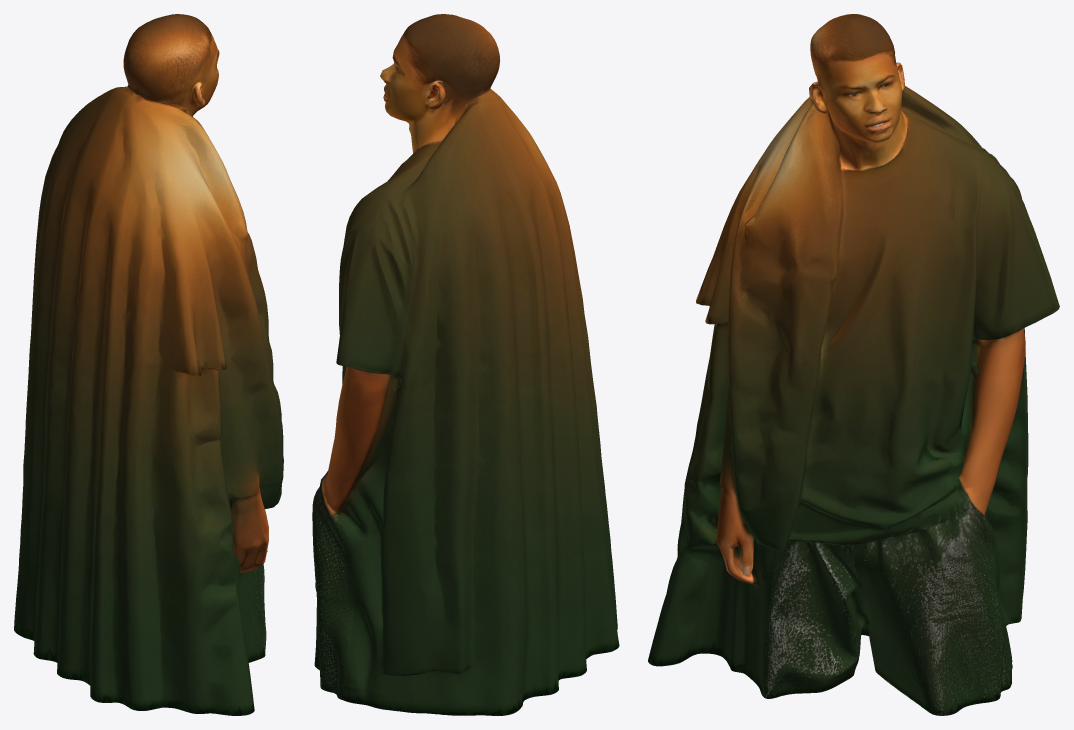
The picture shows the model from 3 angles, left to right: view 1: azimuth 30°, elevation 25°; view 2: azimuth 150°, elevation 25°; view 3: azimuth 270°, elevation 25°; orthographic projection. The views are drawn at different scales.
Visible parts, largest first — view 1: tripo_node_0ead56d1-0721-488a-a187-15ddd0afdf54; view 2: tripo_node_0ead56d1-0721-488a-a187-15ddd0afdf54; view 3: tripo_node_0ead56d1-0721-488a-a187-15ddd0afdf54.
Boxes of the visible parts, x1,y1,x2,y2 form: tripo_node_0ead56d1-0721-488a-a187-15ddd0afdf54: (14,14,283,715); tripo_node_0ead56d1-0721-488a-a187-15ddd0afdf54: (312,14,619,715); tripo_node_0ead56d1-0721-488a-a187-15ddd0afdf54: (648,14,1059,715).
Bounding box in the file's own units: 0.3547 × 0.9988 × 0.5708.
1 material, 1 textured.
